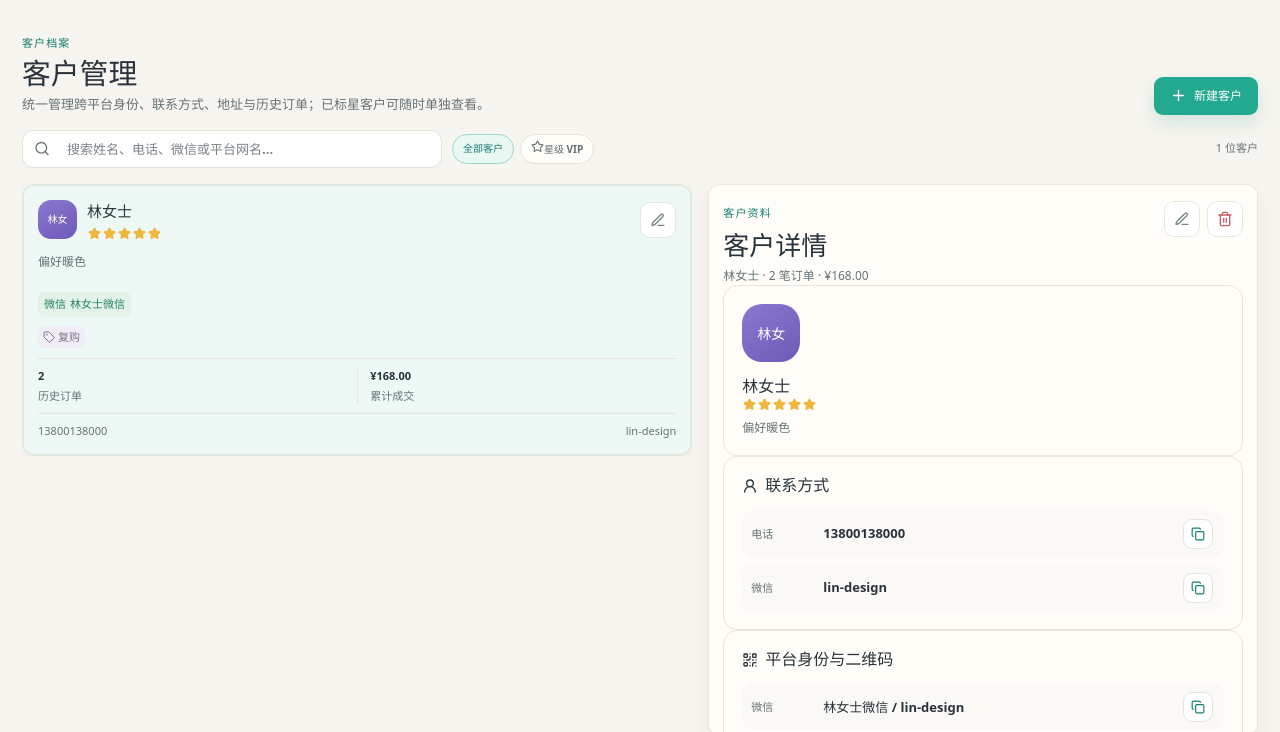
CustomersPage › shows selected customer details on the right and copies contact fields
The image size is (1280, 732).
Expected: the heading "客户详情" is shown, [723,226,827,262]
Expected: the text "林女士微信" is shown, [70,296,125,312]
Step 1. Click the button named "复制电话" → {"x": 1198, "y": 534}, box [1183,519,1213,549]
(page scrolled)
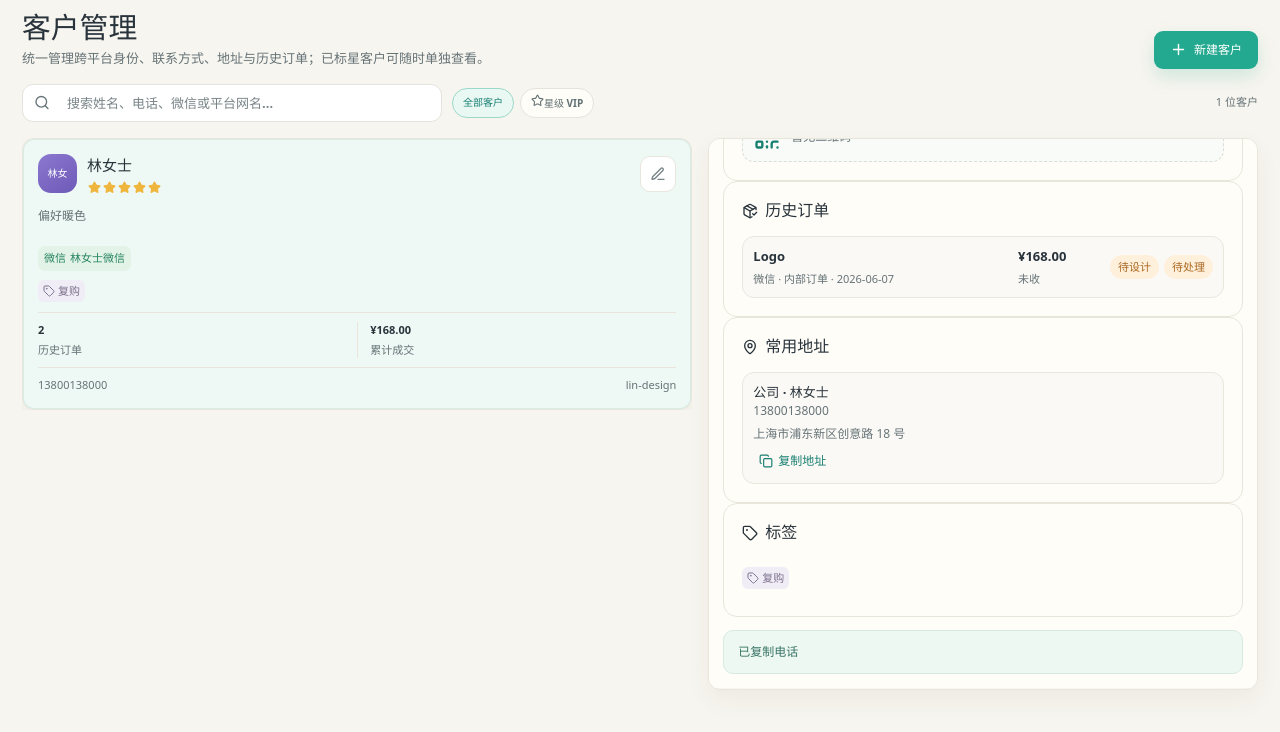
Expected: the text "已复制电话" is shown, [723,630,1243,674]
